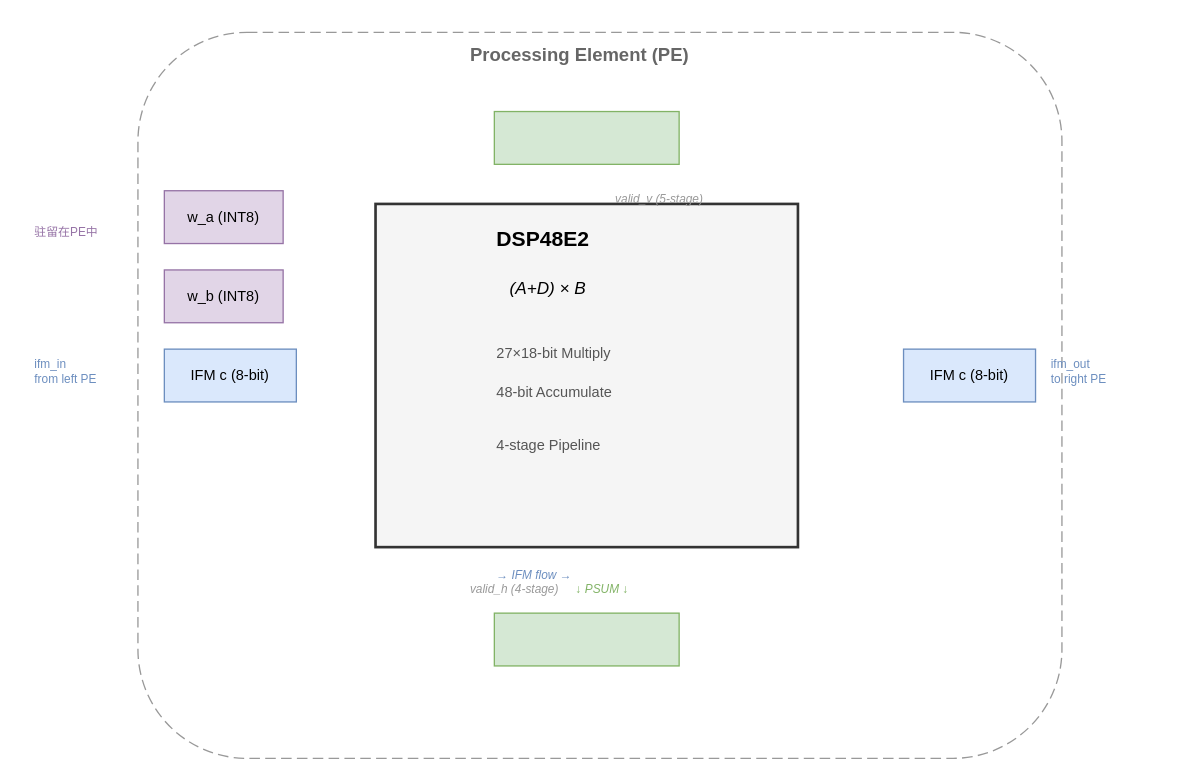
Image size: 1191x783. Some labels were removed from this diagram. The centre of each missing label's shape, as x and y in pixels:
PSUM in (32-bit): pixel 586 137
PSUM out (32-bit): pixel 586 639
